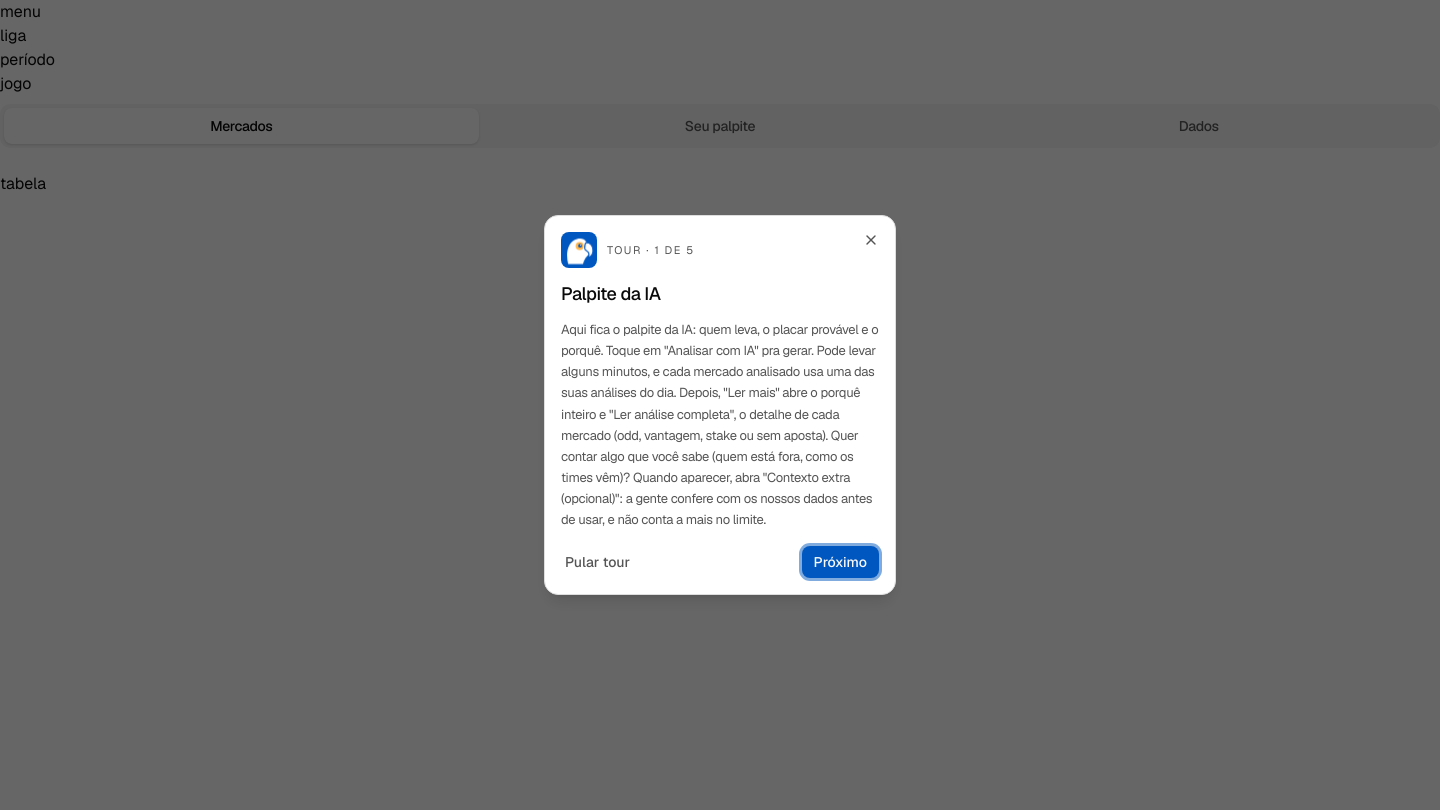
GuidedTour › passos com aba (#576) › com o MatchTabs de verdade: troca a aba sem aviso de flushSync
Click the button "Próximo". click: (840, 562)
box: x1=802 y1=546 x2=879 y2=578
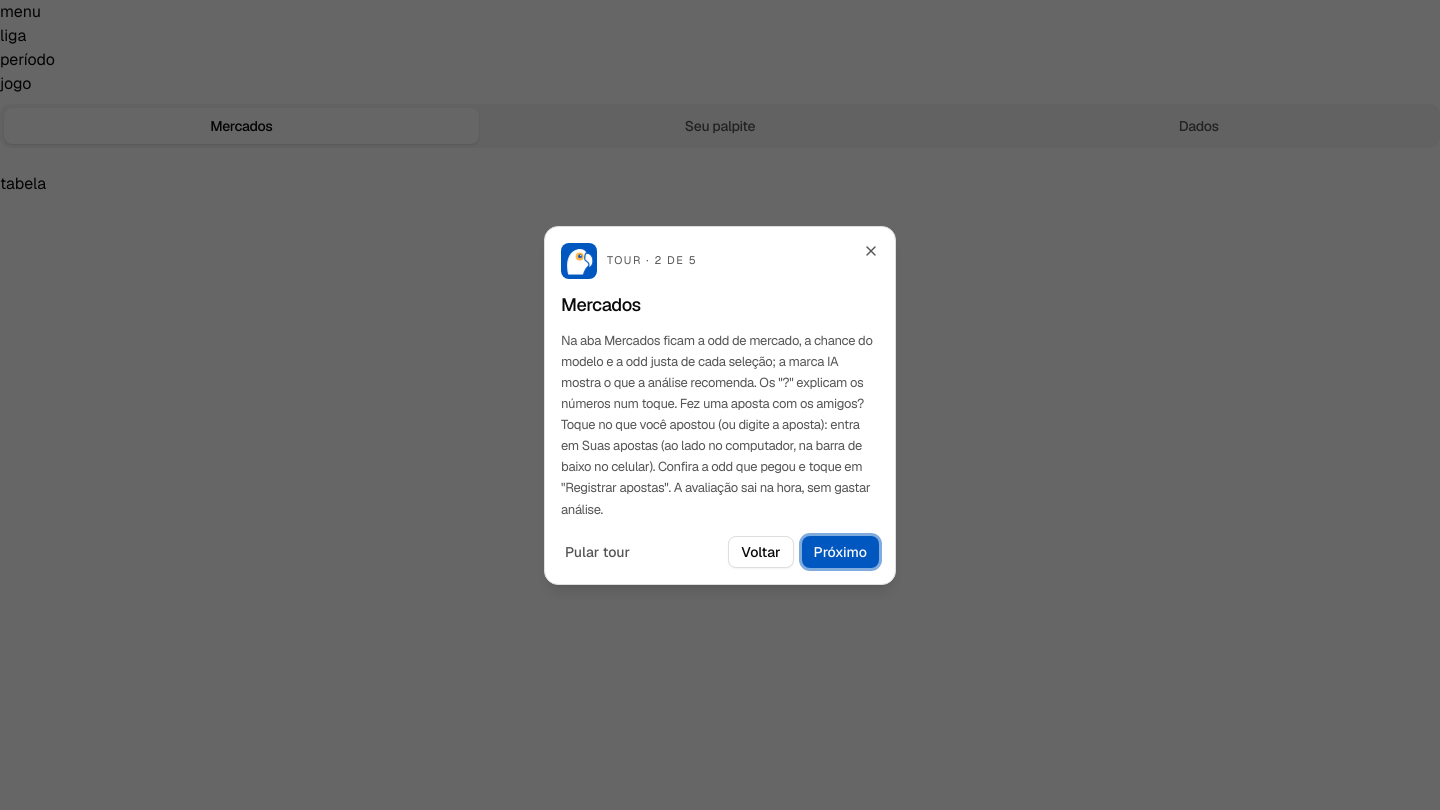
Click the button "Próximo". click: (840, 552)
box: x1=802 y1=536 x2=879 y2=568
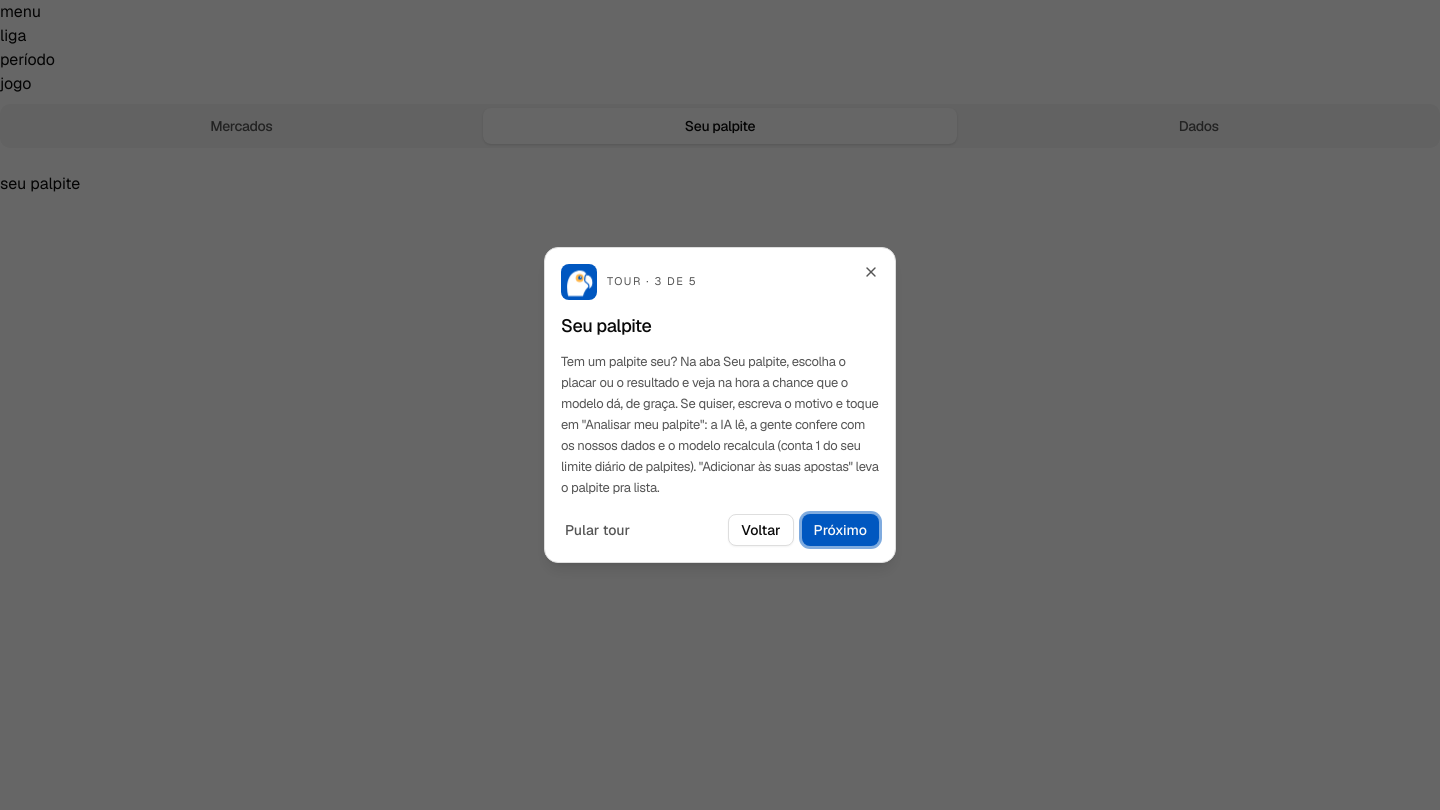
Click the button "Próximo". click: (840, 530)
box: x1=802 y1=514 x2=879 y2=546
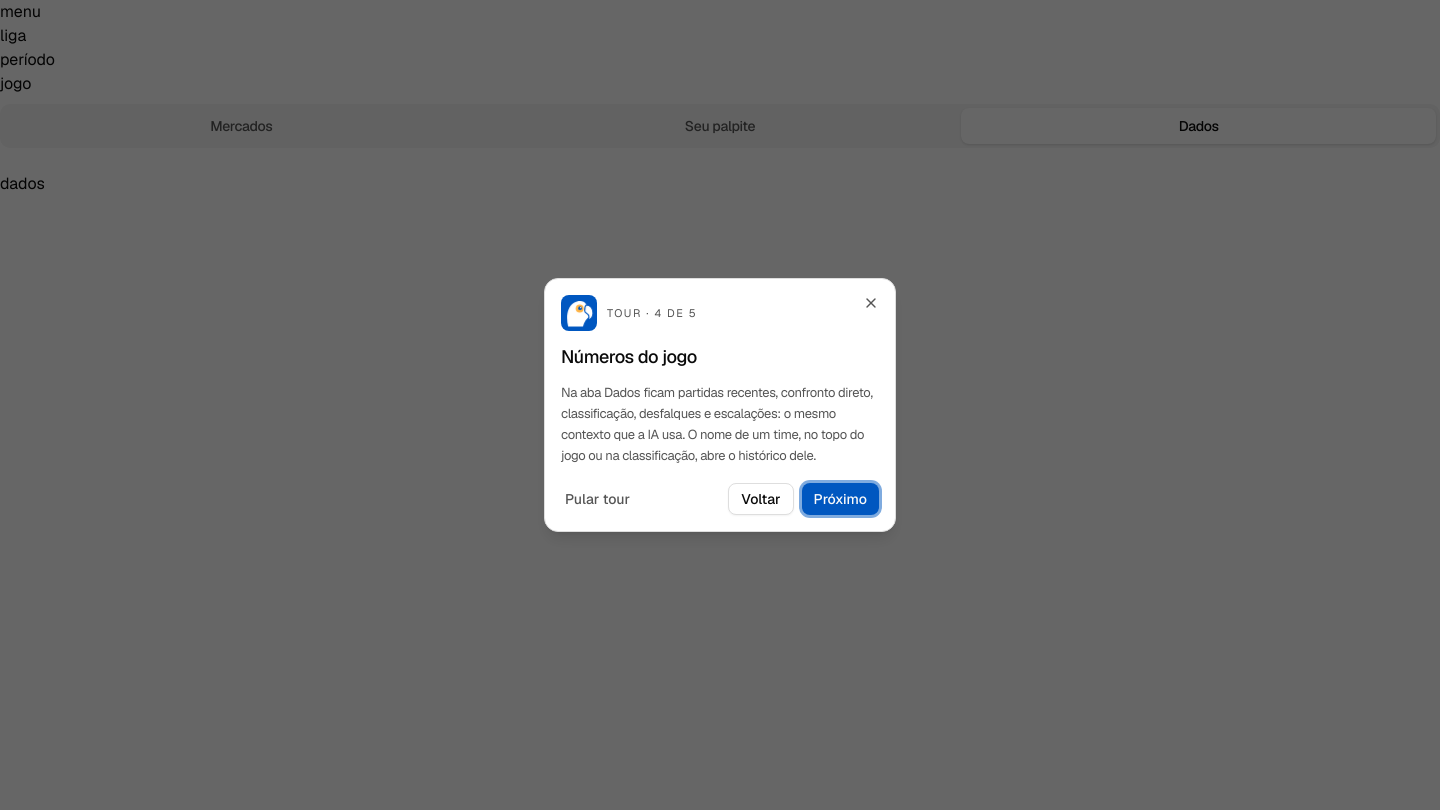
Result: the dialog shows "Números do jogo" at x1=561 y1=345 x2=697 y2=368
Result: the text "dados" is shown at x1=0 y1=173 x2=45 y2=194
